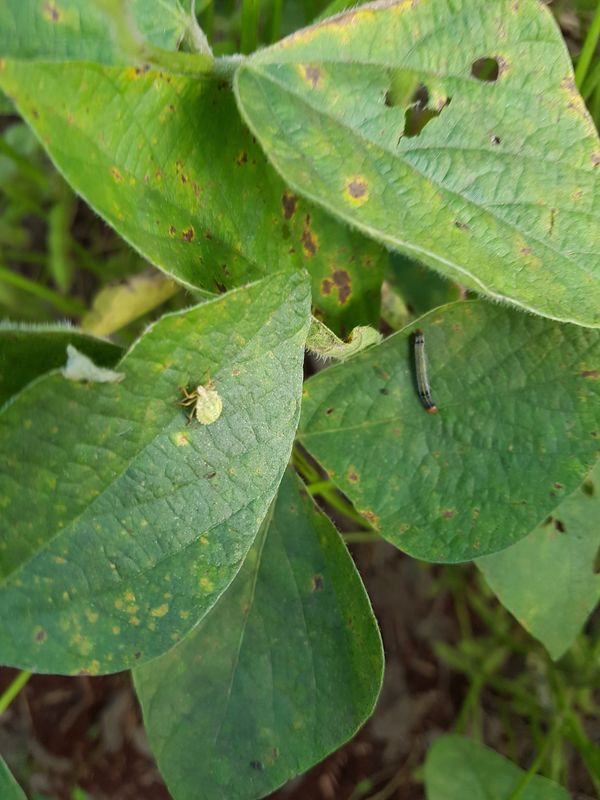Euschistus_heros_ninfa: (171, 368, 233, 436)
Spodoptera_albula: (393, 322, 458, 426)
